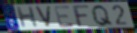2: (112, 4, 130, 26)
E: (53, 5, 76, 29)
F: (70, 5, 91, 29)
H: (15, 6, 40, 29)
Q: (91, 5, 115, 28)
V: (34, 6, 53, 29)
